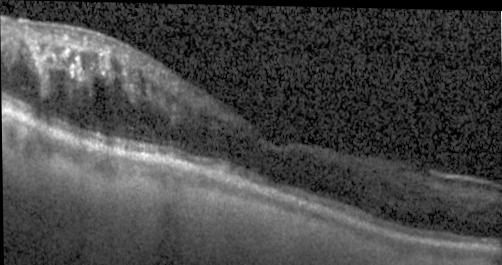intraretinal_cyst: (38, 68, 179, 140), (10, 42, 41, 106), (62, 45, 77, 67), (137, 69, 146, 96), (2, 62, 10, 91), (164, 90, 178, 104), (111, 59, 121, 73), (93, 53, 99, 70), (53, 47, 66, 54), (80, 52, 85, 69), (40, 44, 48, 54), (151, 82, 156, 93), (44, 57, 52, 63)
